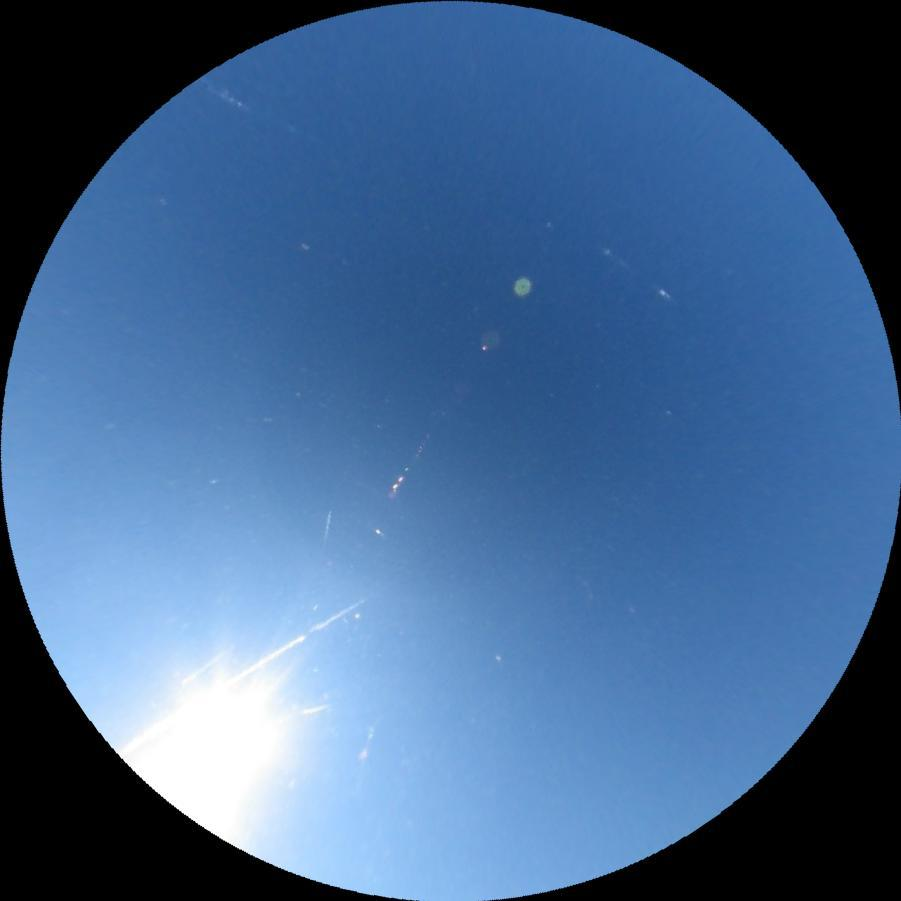contrail young: (321, 508, 333, 545), (300, 701, 331, 715)
parasite: (116, 591, 368, 758), (196, 74, 298, 138), (600, 243, 681, 307)
sun: (111, 636, 313, 841)
unknow: (176, 646, 235, 688)
